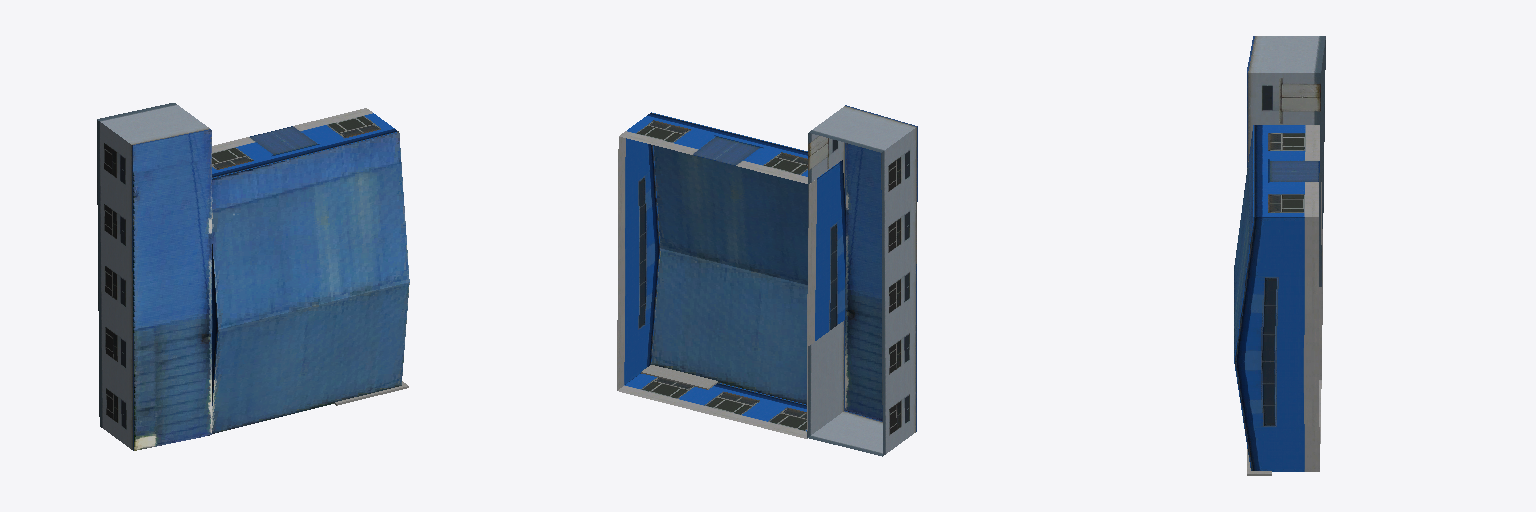
3 views of the same model, side by side, from view 1: azimuth 30°, elevation 25°; view 2: azimuth 150°, elevation 25°; view 3: azimuth 270°, elevation 25° (orthographic).
Parts seen in each view (by area): view 1: Group_MatrixTransform_i96059X_Geometry_8, Group_MatrixTransform_i96059X_Geometry_9, Group_MatrixTransform_i96059X_Geometry_4, Group_MatrixTransform_i96059X_Geometry_7, Group_MatrixTransform_i96059X_Geometry_3, Group_MatrixTransform_i96059X_Geometry_6, Group_MatrixTransform_i96059X_Geometry_5; view 2: Group_MatrixTransform_i96059X_Geometry_8, Group_MatrixTransform_i96059X_Geometry_5, Group_MatrixTransform_i96059X_Geometry_4, Group_MatrixTransform_i96059X_Geometry_9, Group_MatrixTransform_i96059X_Geometry_7, Group_MatrixTransform_i96059X_Geometry_3, Group_MatrixTransform_i96059X_Geometry_6, Group_MatrixTransform_i96059X_Geometry_2, Group_MatrixTransform_i96059X_Geometry_0; view 3: Group_MatrixTransform_i96059X_Geometry_5, Group_MatrixTransform_i96059X_Geometry_7, Group_MatrixTransform_i96059X_Geometry_2, Group_MatrixTransform_i96059X_Geometry_3, Group_MatrixTransform_i96059X_Geometry_6, Group_MatrixTransform_i96059X_Geometry_8, Group_MatrixTransform_i96059X_Geometry_4.
Part boxes in pixels (bbox=[...]): Group_MatrixTransform_i96059X_Geometry_8: bbox=[212, 132, 409, 433]; Group_MatrixTransform_i96059X_Geometry_9: bbox=[133, 130, 211, 450]; Group_MatrixTransform_i96059X_Geometry_4: bbox=[97, 120, 133, 450]; Group_MatrixTransform_i96059X_Geometry_7: bbox=[212, 108, 398, 178]; Group_MatrixTransform_i96059X_Geometry_3: bbox=[97, 103, 210, 145]; Group_MatrixTransform_i96059X_Geometry_6: bbox=[239, 124, 334, 163]; Group_MatrixTransform_i96059X_Geometry_5: bbox=[212, 244, 217, 405]; Group_MatrixTransform_i96059X_Geometry_8: bbox=[651, 145, 807, 404]; Group_MatrixTransform_i96059X_Geometry_5: bbox=[617, 137, 845, 438]; Group_MatrixTransform_i96059X_Geometry_4: bbox=[881, 126, 917, 455]; Group_MatrixTransform_i96059X_Geometry_9: bbox=[845, 143, 882, 421]; Group_MatrixTransform_i96059X_Geometry_7: bbox=[618, 112, 840, 438]; Group_MatrixTransform_i96059X_Geometry_3: bbox=[807, 105, 916, 456]; Group_MatrixTransform_i96059X_Geometry_6: bbox=[682, 128, 777, 167]; Group_MatrixTransform_i96059X_Geometry_2: bbox=[808, 133, 845, 184]; Group_MatrixTransform_i96059X_Geometry_0: bbox=[641, 365, 717, 389]; Group_MatrixTransform_i96059X_Geometry_5: bbox=[1234, 182, 1322, 471]; Group_MatrixTransform_i96059X_Geometry_7: bbox=[1253, 125, 1321, 443]; Group_MatrixTransform_i96059X_Geometry_2: bbox=[1247, 73, 1320, 124]; Group_MatrixTransform_i96059X_Geometry_3: bbox=[1247, 36, 1325, 286]; Group_MatrixTransform_i96059X_Geometry_6: bbox=[1253, 156, 1319, 186]; Group_MatrixTransform_i96059X_Geometry_8: bbox=[1234, 131, 1252, 356]; Group_MatrixTransform_i96059X_Geometry_4: bbox=[1321, 40, 1325, 228].
Size of the model in its own units: 25.69 by 27.63 by 7.5.
10 materials, 10 textured.